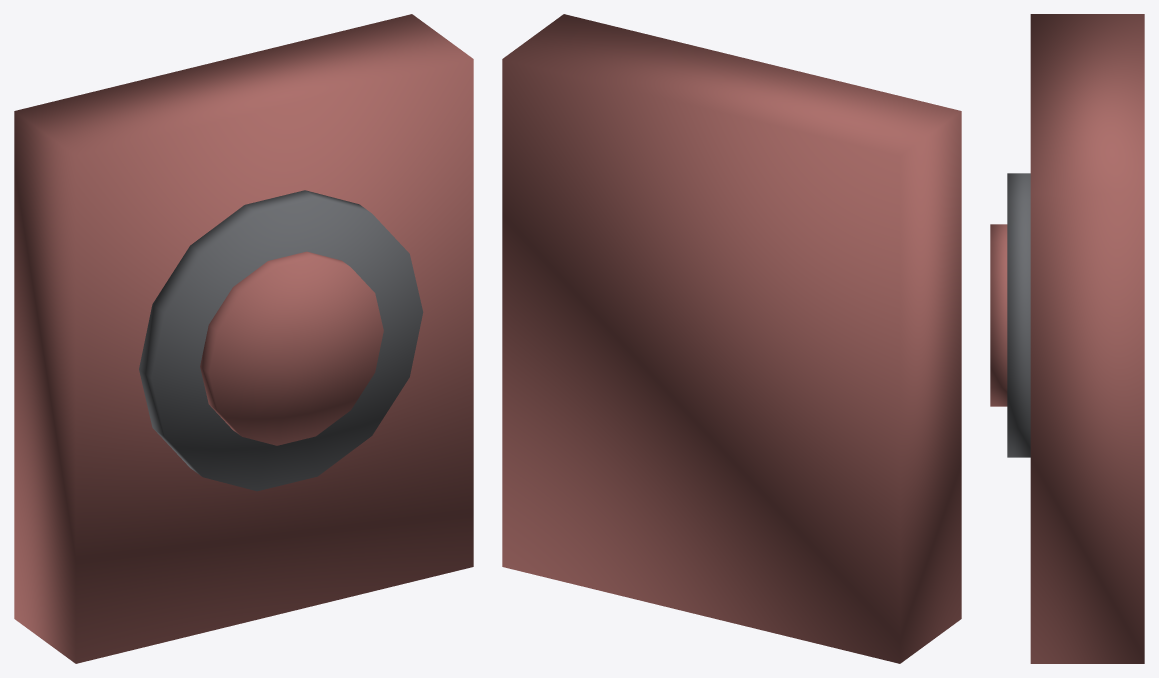
Rendered from fire_hose_rack.glb.
3 views of the same model, side by side, from view 1: azimuth 30°, elevation 25°; view 2: azimuth 150°, elevation 25°; view 3: azimuth 270°, elevation 25° (orthographic). The views are drawn at different scales.
Visible parts, largest first — view 1: world; view 2: world; view 3: world.
Part boxes in pixels (x1,y1,x2,y2): world: (14,14,473,663); world: (502,14,961,663); world: (990,14,1144,663).
Bounding box in the file's own units: 0.82 × 1 × 0.2975.
